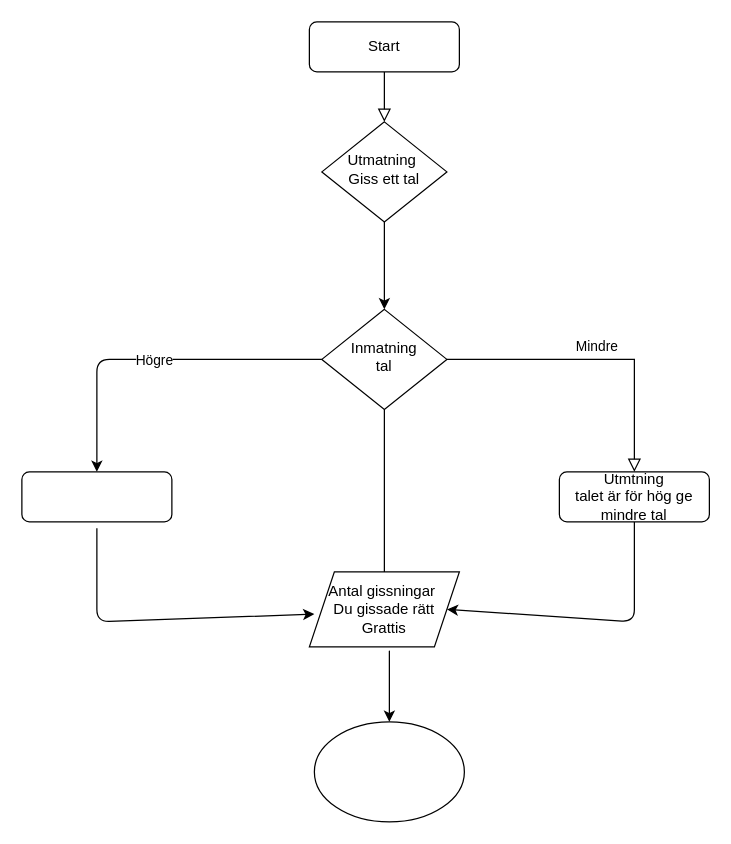
Some shapes in this 731 by 844 pixel diagram are drawn without their labels. The shapes that lost their labels are listed below. From the top down, each one's box as (x1, y1, x2, y2) in pixels, then its label:
(21, 471, 172, 522): Utmatning talet är för låg ge högre tal
(313, 721, 464, 822): Program avslutas
